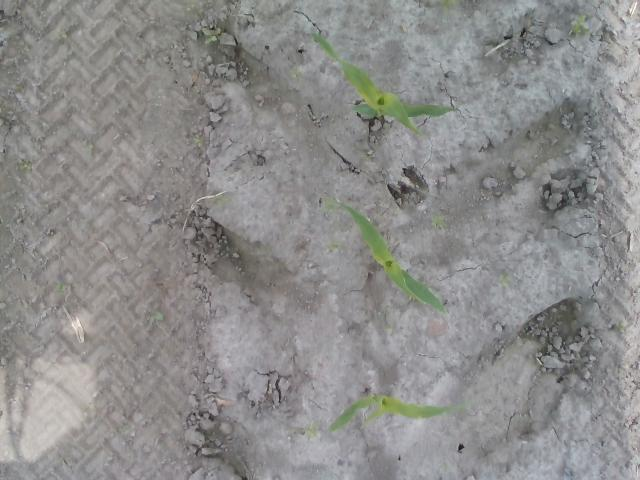Maize: (306, 30, 456, 136), (328, 197, 452, 319), (325, 388, 467, 433)
Weeds: (288, 422, 320, 440), (568, 14, 592, 37), (201, 26, 220, 46), (144, 310, 164, 328), (430, 214, 450, 232), (352, 416, 374, 432), (434, 0, 459, 13), (496, 271, 512, 290), (54, 27, 69, 42), (16, 158, 32, 172), (186, 1, 200, 17), (214, 193, 228, 209), (324, 240, 338, 254), (192, 128, 204, 144), (289, 67, 302, 81), (612, 320, 626, 333), (54, 280, 65, 296), (80, 142, 96, 152), (0, 31, 14, 42), (383, 322, 394, 336), (439, 463, 454, 472), (190, 88, 202, 97), (54, 456, 64, 465)
